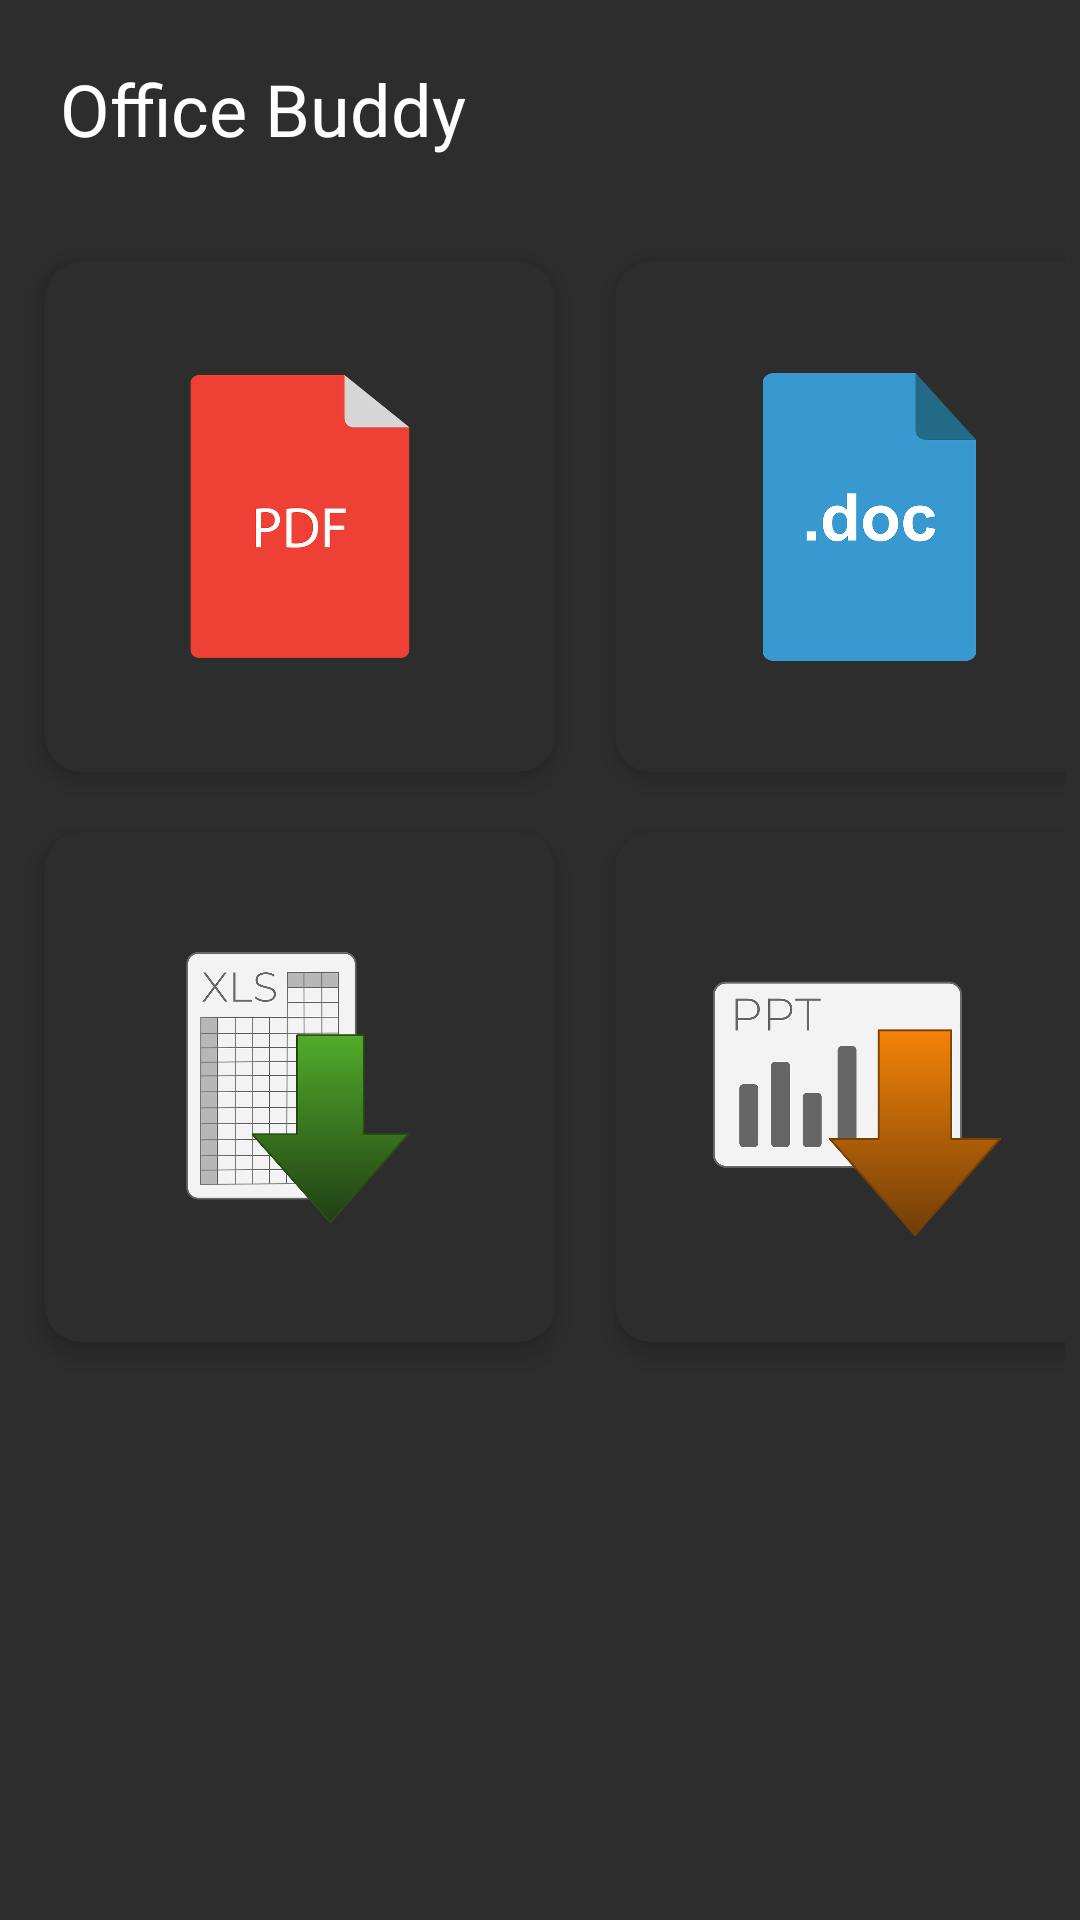

Locate icon controls on the screen. Image size 1080w x 1920h, boxes as (x1, y1, x2, y2).
excel: (186, 952, 409, 1223)
